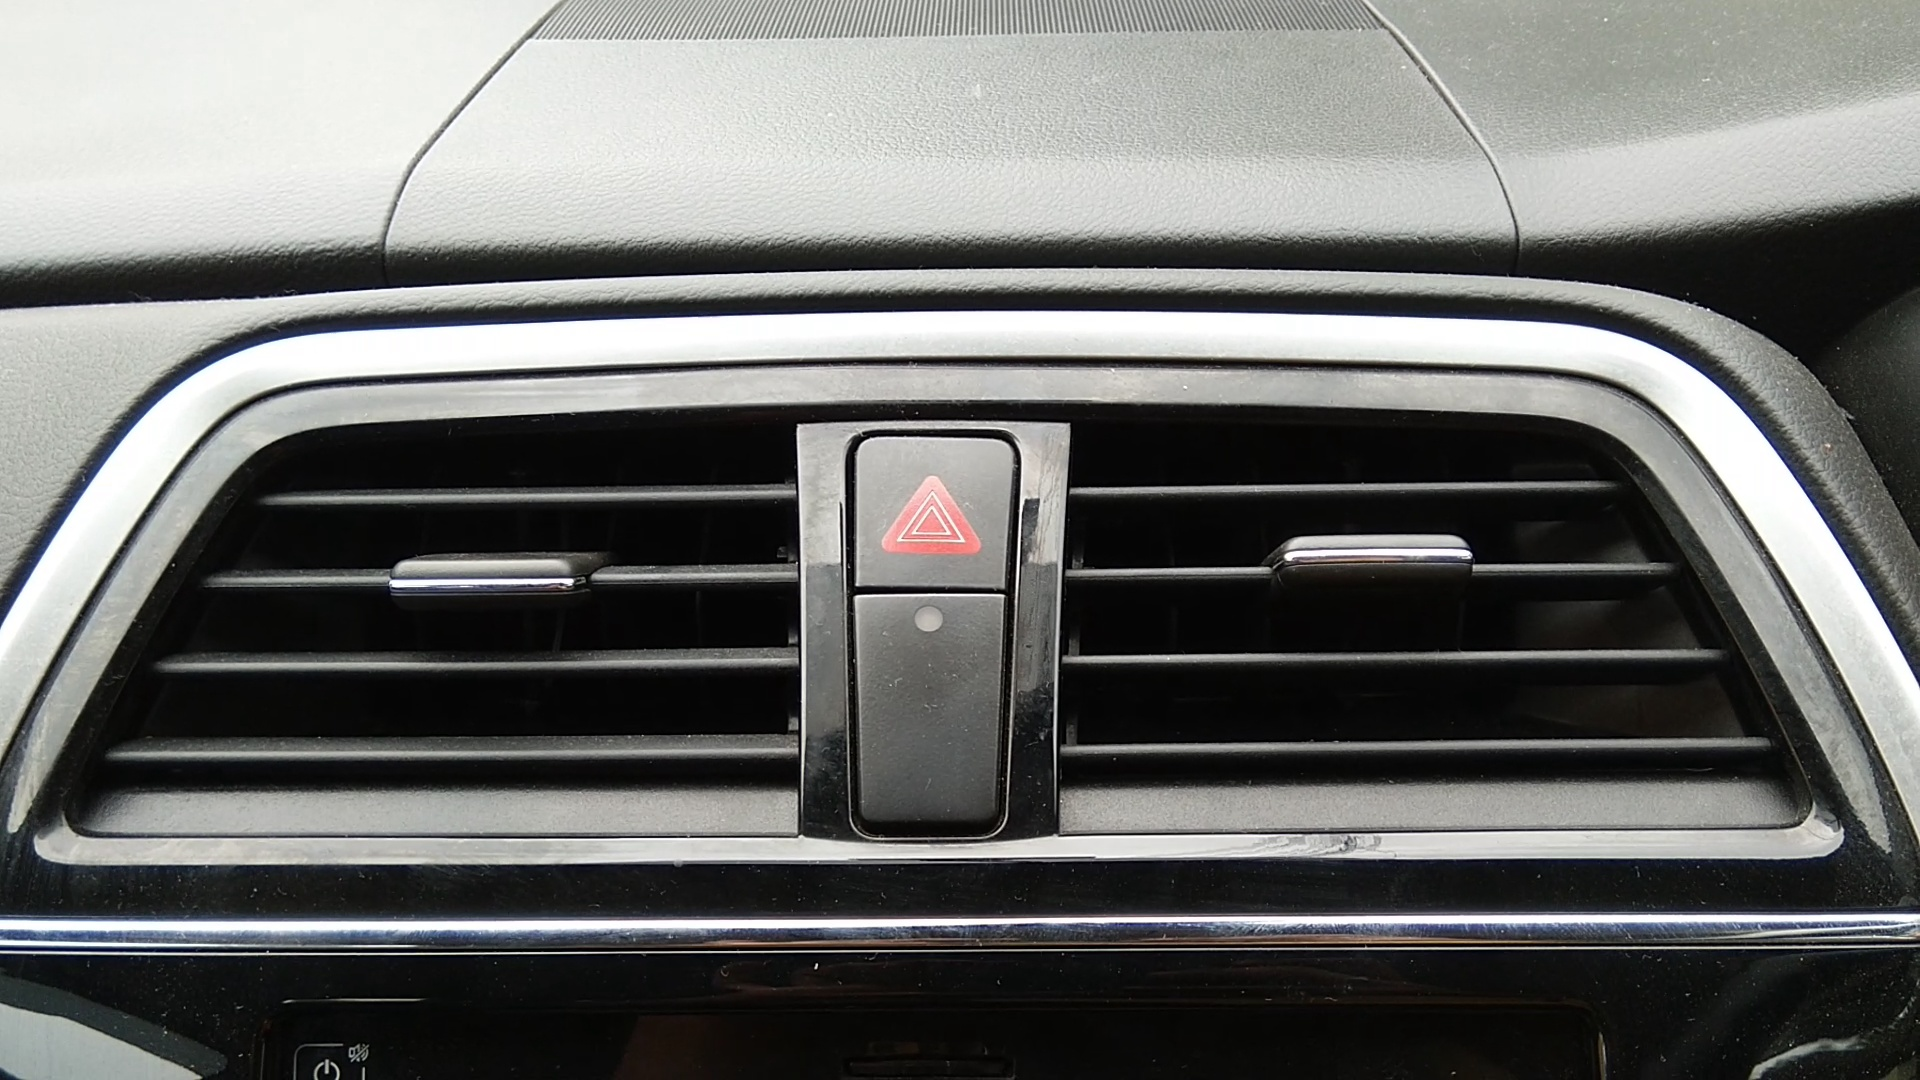parking_button: (831, 407, 1034, 615)
